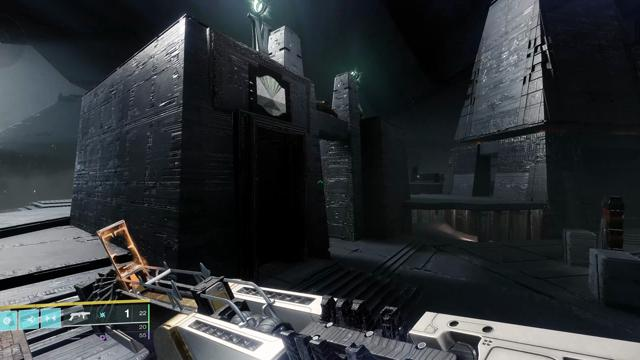commune: (256, 75, 287, 117)
